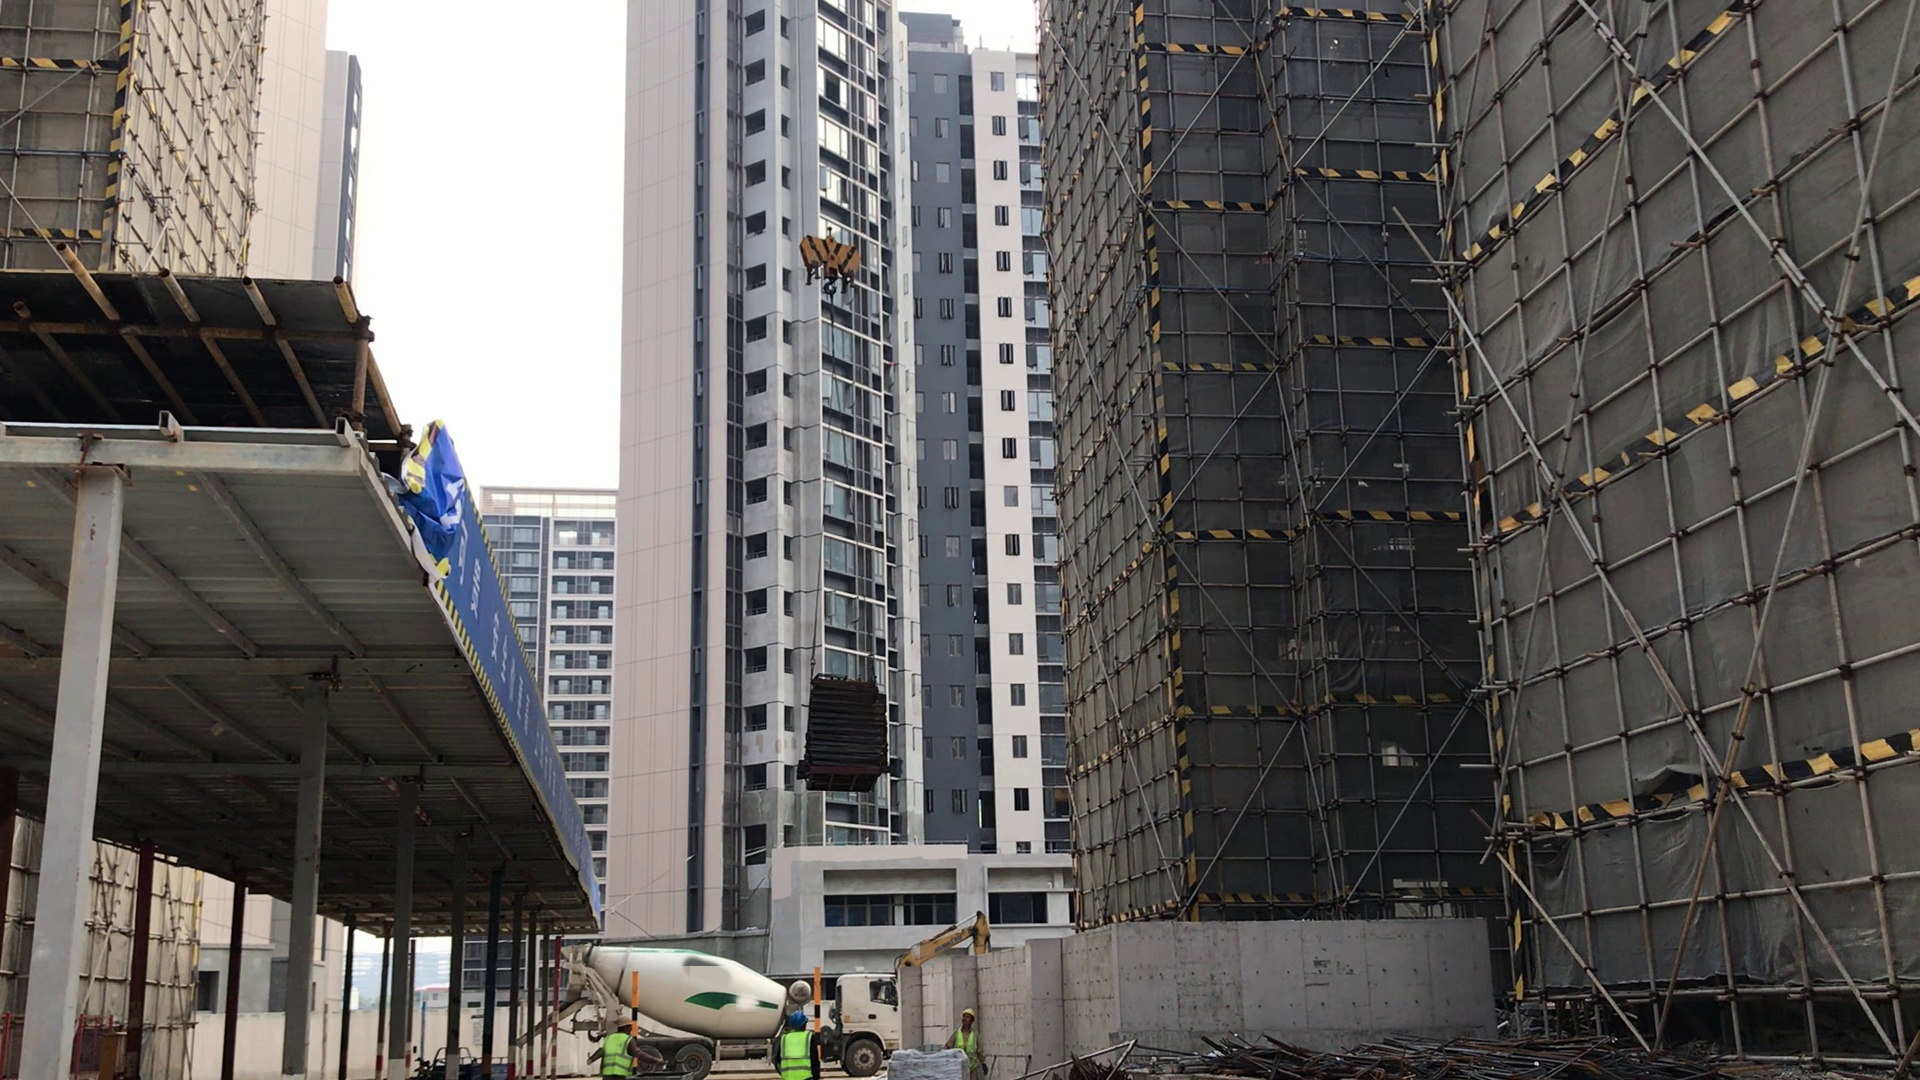helmet: (782, 999, 810, 1029), (962, 998, 983, 1022)
person: (769, 1016, 823, 1080), (955, 994, 989, 1080), (599, 1028, 631, 1080)
vest: (771, 1029, 815, 1071), (601, 1033, 625, 1070), (955, 1026, 979, 1048)
